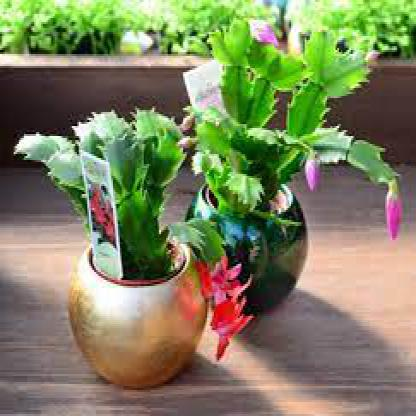Aglonema: (39, 83, 358, 273)
